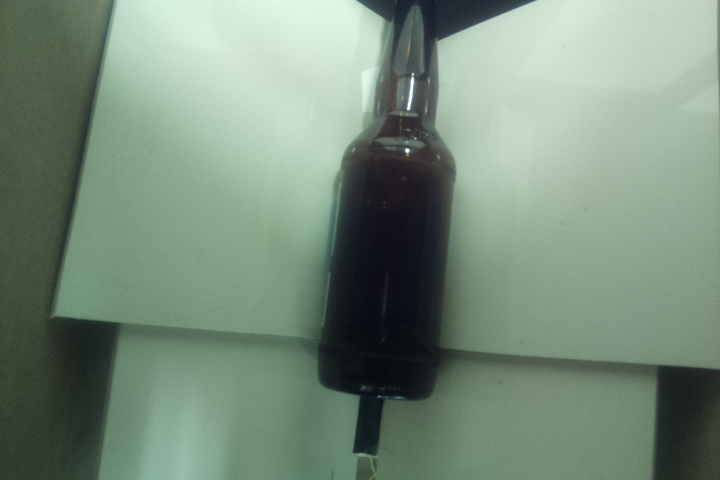makju: (314, 1, 459, 403)
